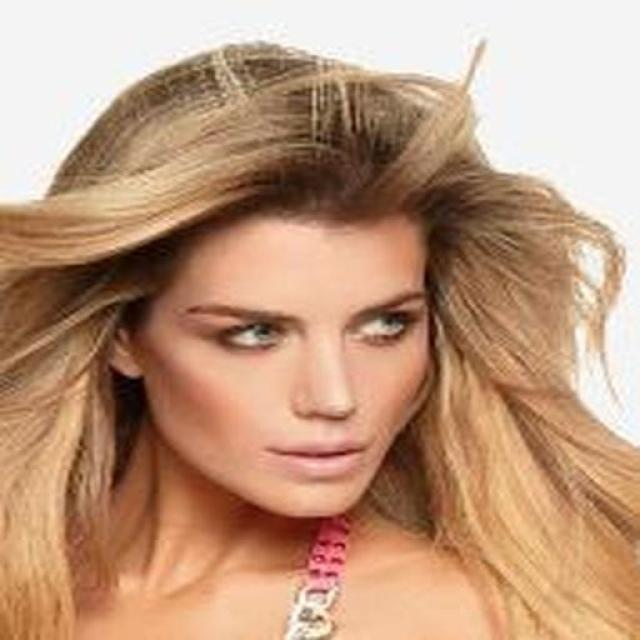bareface: (113, 79, 469, 492)
